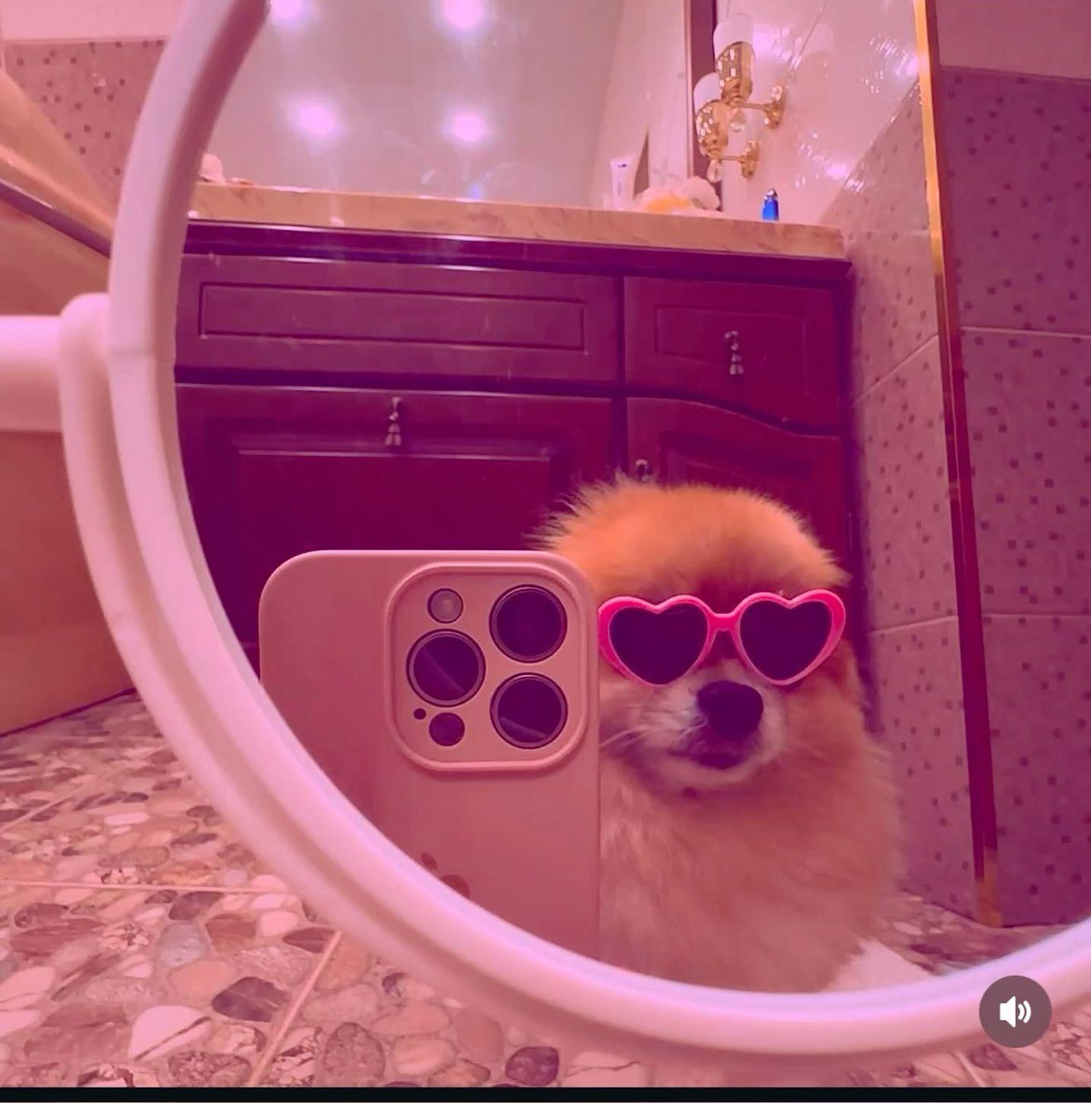puppy-dog: (534, 475, 932, 990)
